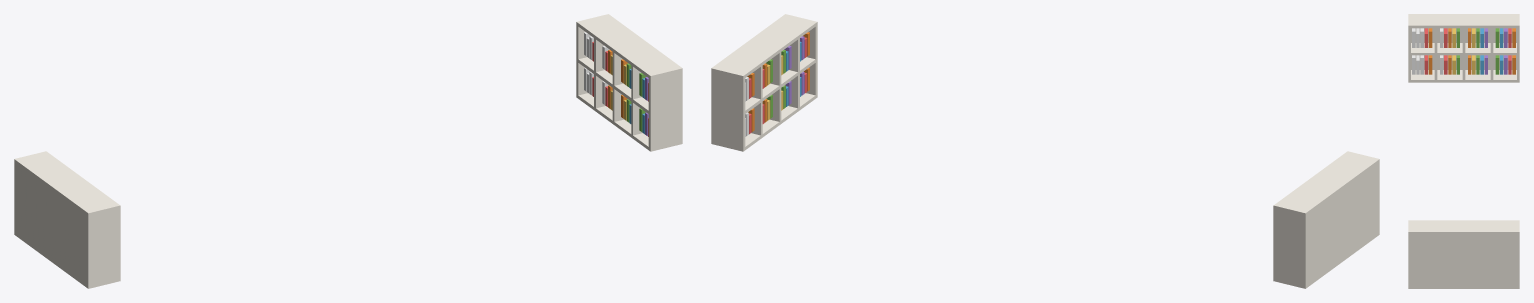
File: kcubby-books.glb
The picture shows the model from 3 angles, left to right: view 1: azimuth 30°, elevation 25°; view 2: azimuth 150°, elevation 25°; view 3: azimuth 270°, elevation 25°; orthographic projection. The views are drawn at different scales.
Size of the model in its own units: 7.4 by 0.9 by 1.6.
